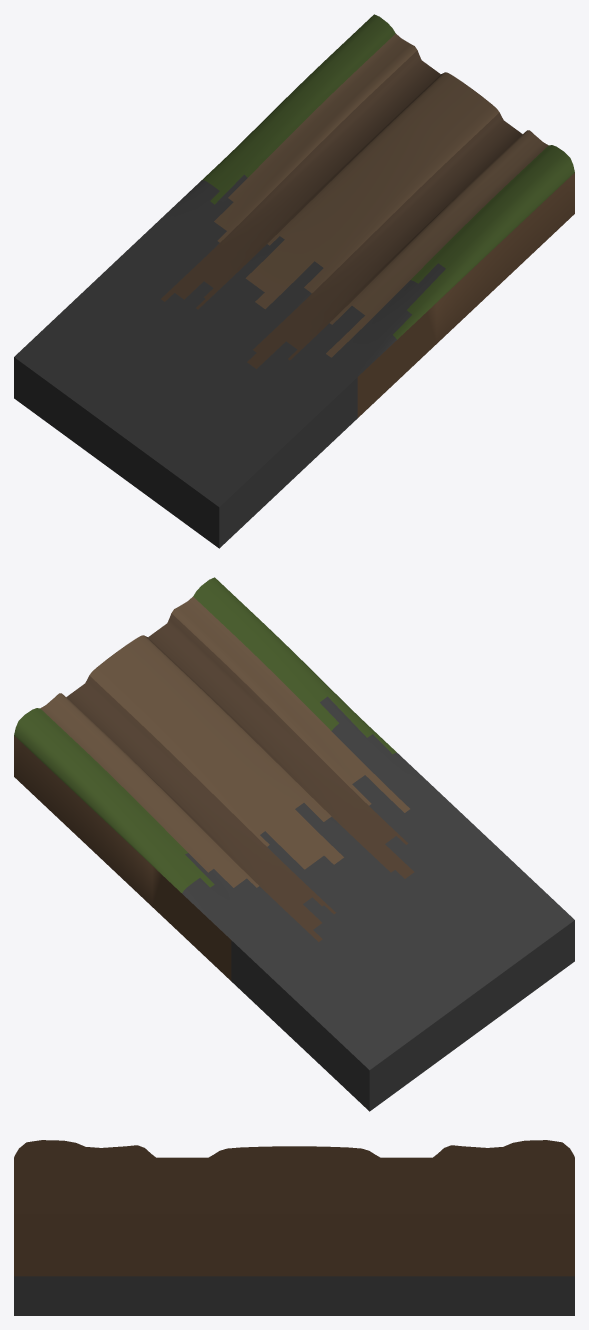
3 views of the same model, one above another, from view 1: azimuth 30°, elevation 25°; view 2: azimuth 150°, elevation 25°; view 3: azimuth 270°, elevation 25° (orthographic). The views are drawn at different scales.
Parts seen in each view (by area): view 1: b3u; view 2: b3u; view 3: b3u.
Boxes of the visible parts, x1=… form: b3u: x1=14, y1=14, x2=574, y2=548; b3u: x1=14, y1=577, x2=574, y2=1111; b3u: x1=14, y1=1140, x2=574, y2=1315.
Size of the model in its own units: 9 by 7.31 by 9.
